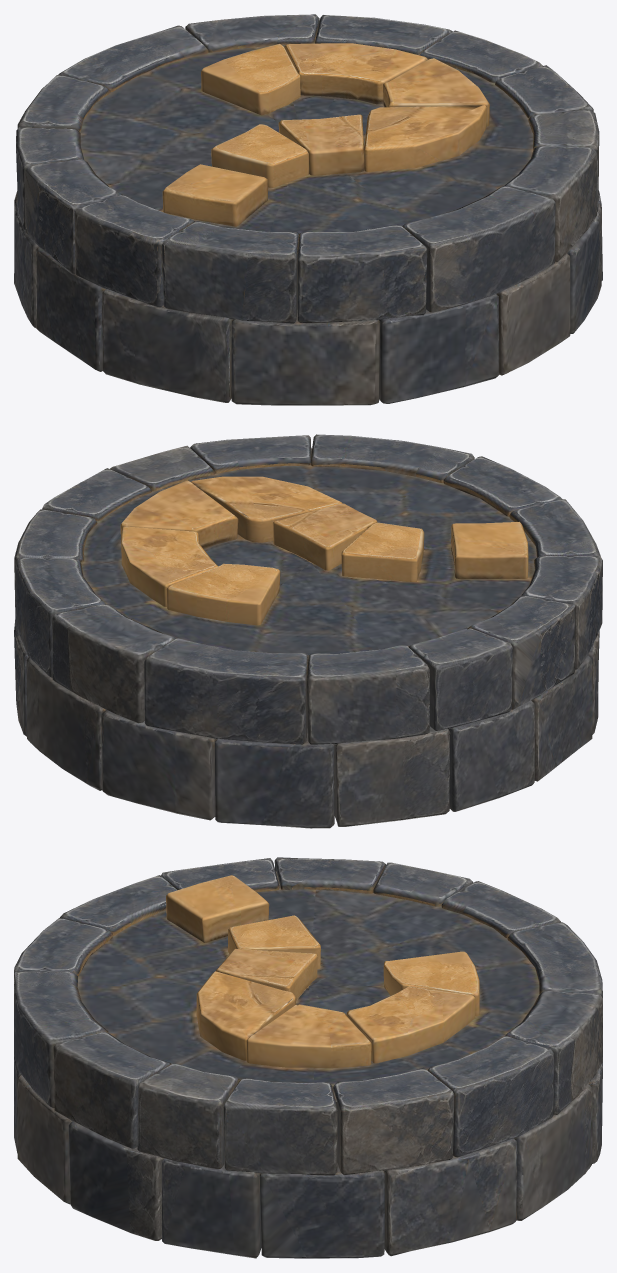
Rendered from question-masonry.glb.
3 views of the same model, one above another, from view 1: azimuth 30°, elevation 25°; view 2: azimuth 150°, elevation 25°; view 3: azimuth 270°, elevation 25° (orthographic).
Size of the model in its own units: 1 by 0.3233 by 1.
Materials: 1 (1 with a texture image).
